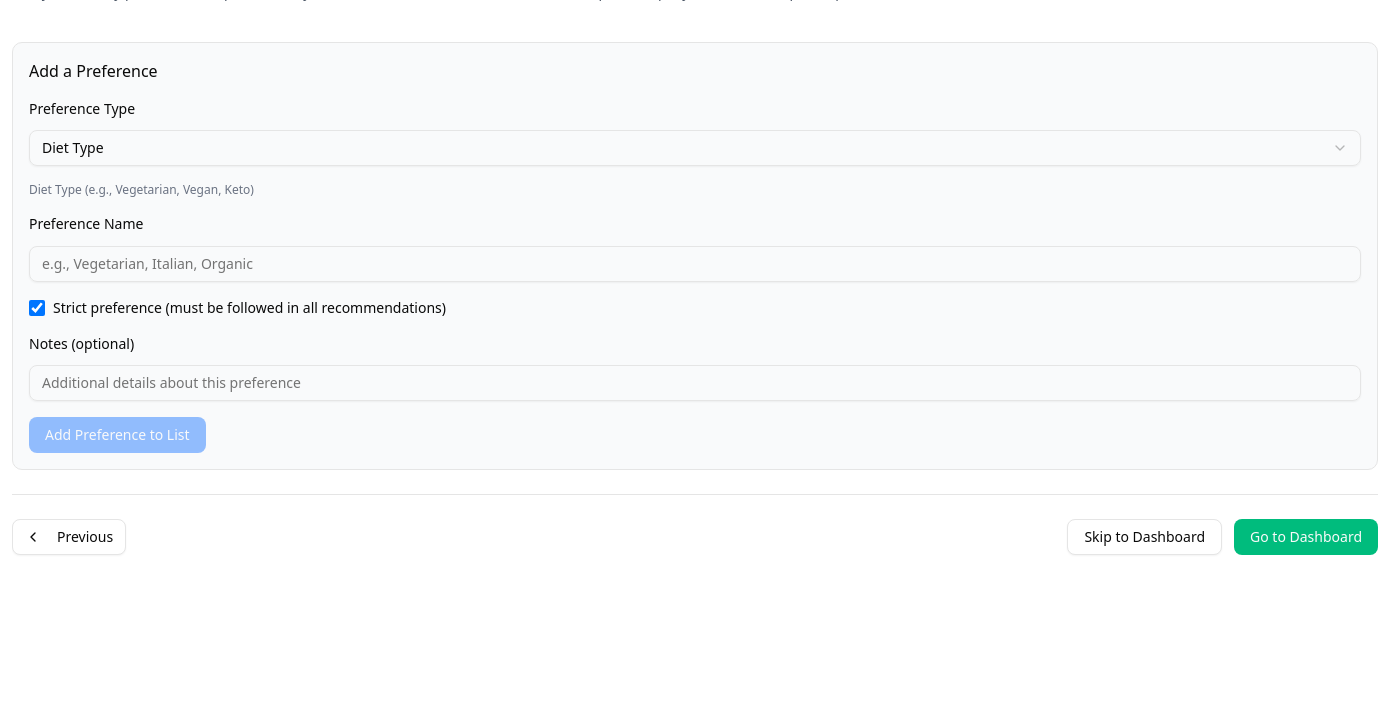
Step3PreferencesForm › changes button text to "Complete Setup" when preferences are added
Expected: the button "Go to Dashboard" is shown, x1=1234 y1=519 x2=1378 y2=555
# Add a preference
Step 1. Type "Vegetarian" into the field with placeholder "e.g., Vegetarian, Italian, Organic" → (695,264), box x1=29 y1=246 x2=1361 y2=282
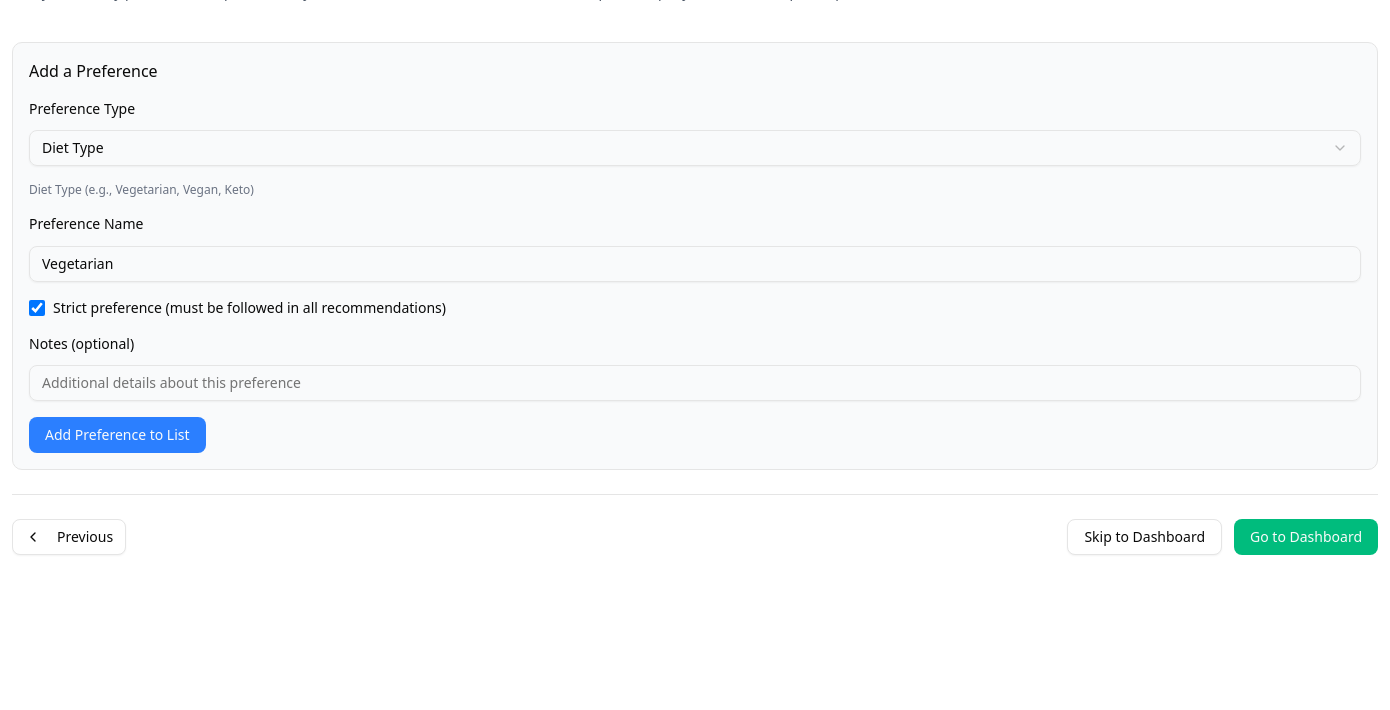
Step 2. Click the button "Add Preference to List" → (117,435), box x1=29 y1=417 x2=206 y2=453
(page scrolled)
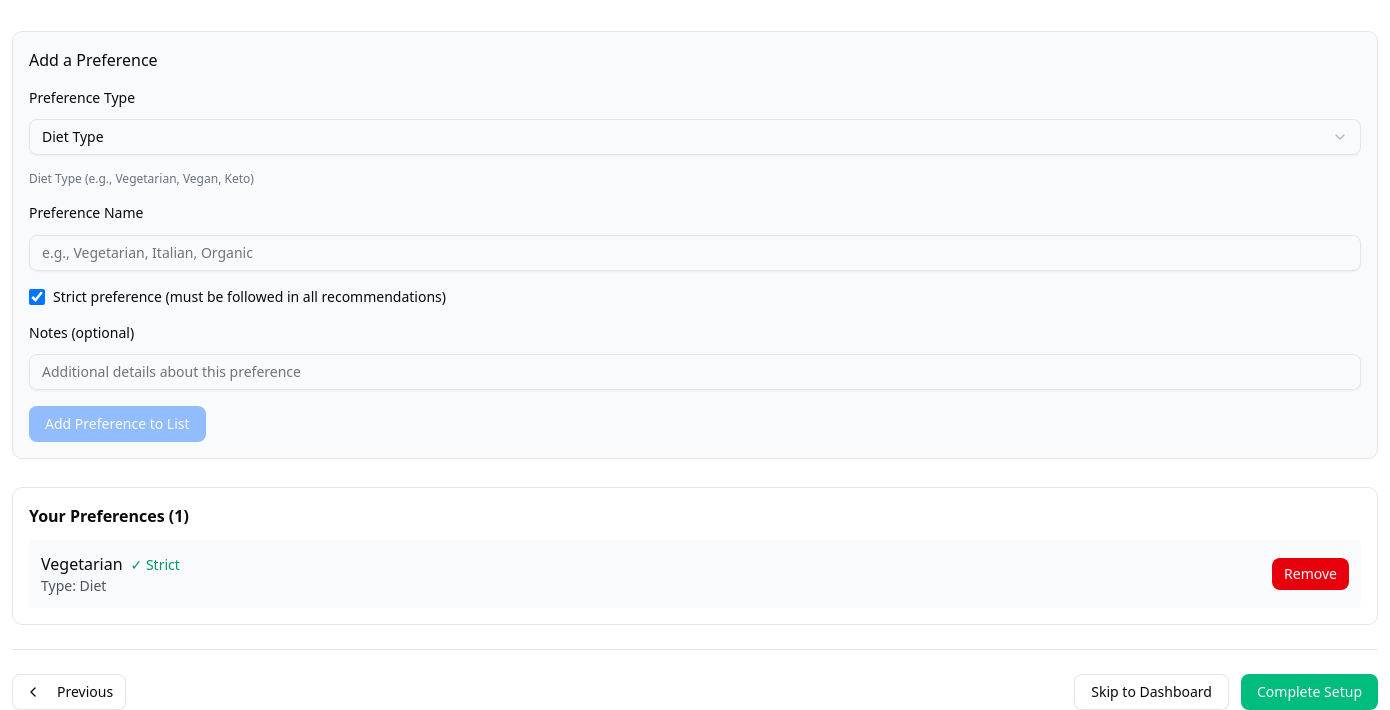
Expected: the button "Complete Setup" is shown, x1=1241 y1=674 x2=1378 y2=709
